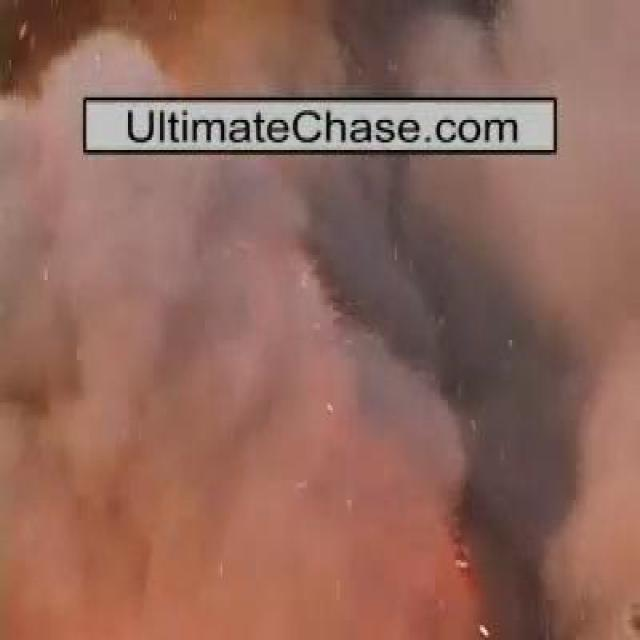Smoke: (22, 163, 581, 563), (82, 0, 549, 95)
